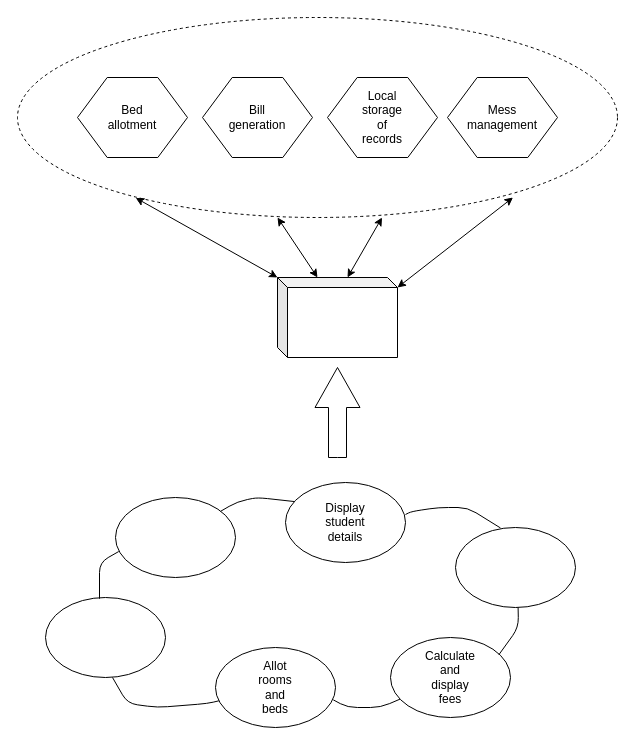
Image size: 635x745. Some labels were removed from this diagram. Each missing label, with the centre of its shape:
"Display beds available" goes at point 105,637.
"Display rooms available" goes at point 515,567.
"Hostel Management System" goes at point 337,317.
"Registration of student" goes at point 175,537.
